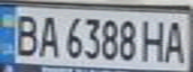3: (81, 15, 103, 61)
6: (60, 12, 84, 60)
8: (118, 16, 142, 62), (100, 16, 121, 62)
A: (160, 16, 190, 64), (36, 11, 60, 58)
B: (9, 10, 42, 57)
H: (139, 17, 169, 63)
